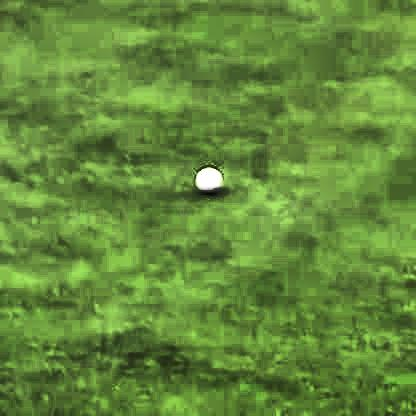golfball: (191, 161, 222, 192)
